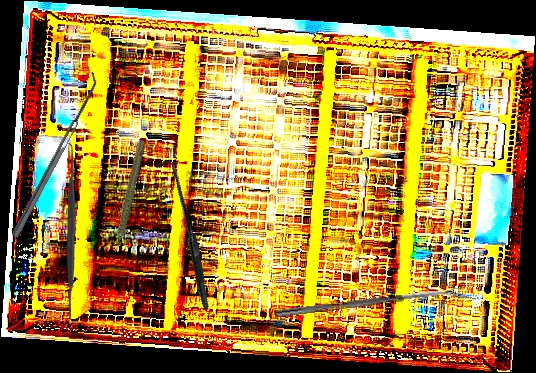Handpiece: (87, 138, 168, 255)
Hook Surgical: (108, 157, 260, 311)
Spatula Surgical: (5, 71, 103, 238), (59, 143, 84, 325)
Surgical Spoon: (274, 287, 461, 319)
